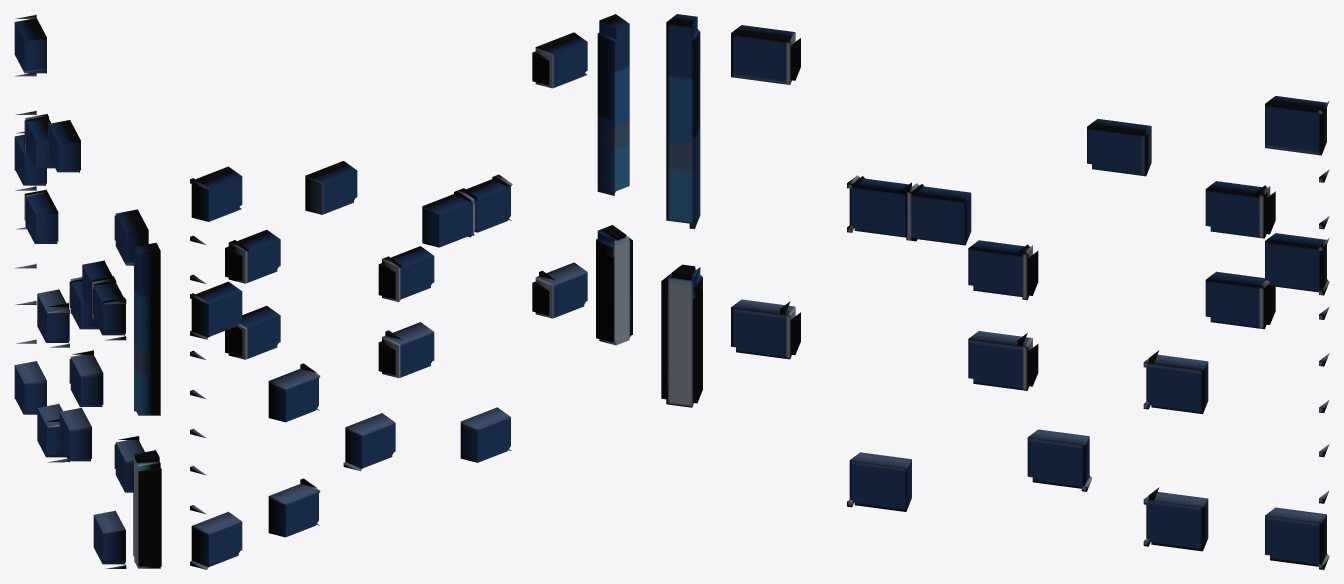
Rendered from heatmap3d.glb.
3 views of the same model, side by side, from view 1: azimuth 30°, elevation 25°; view 2: azimuth 150°, elevation 25°; view 3: azimuth 270°, elevation 25° (orthographic). The views are drawn at different scales.
Bounding box in the file's own units: 86.22 × 188 × 247.
1 material, 1 textured.
